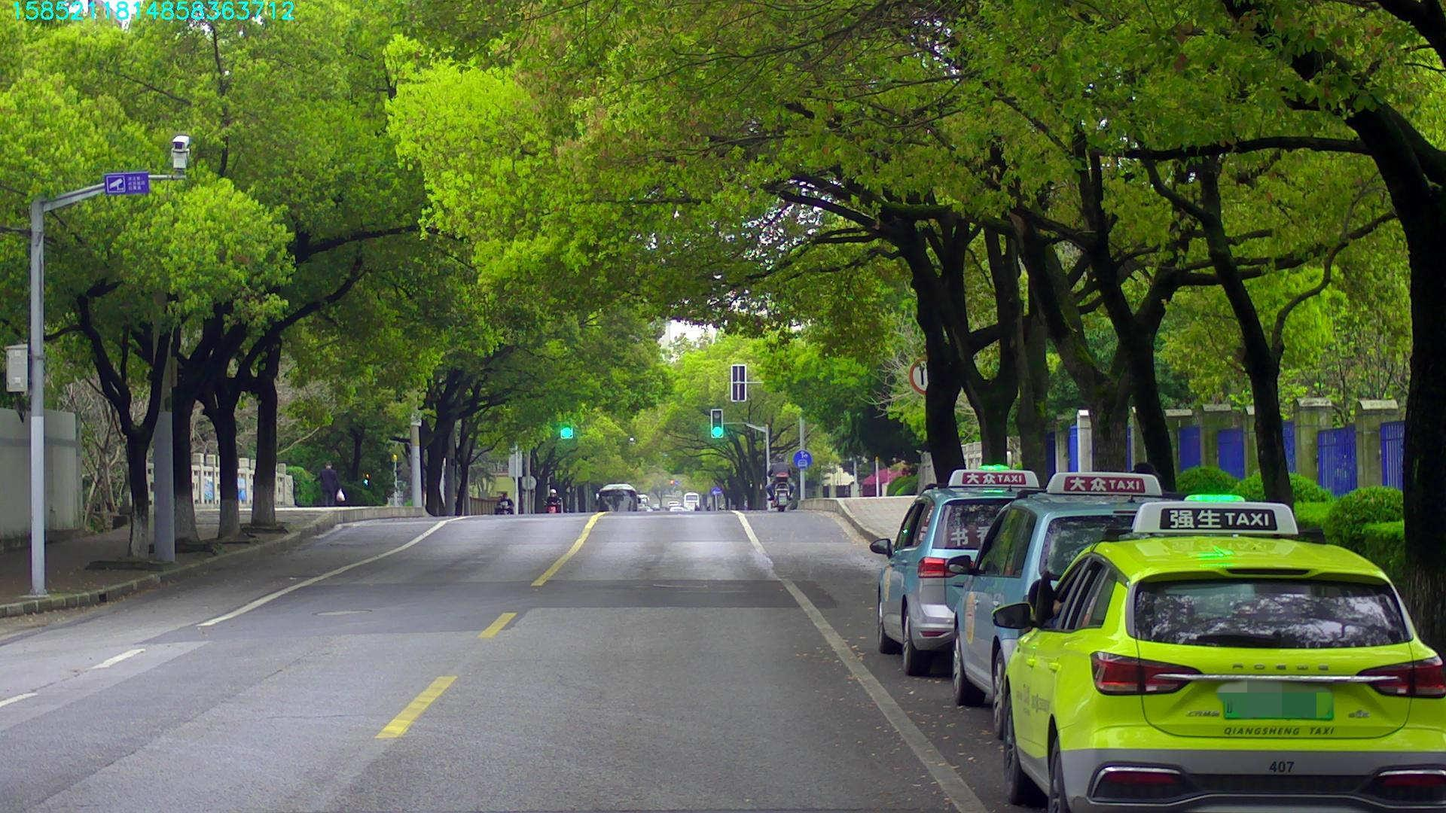green: (711, 409, 723, 437), (560, 423, 572, 437)
